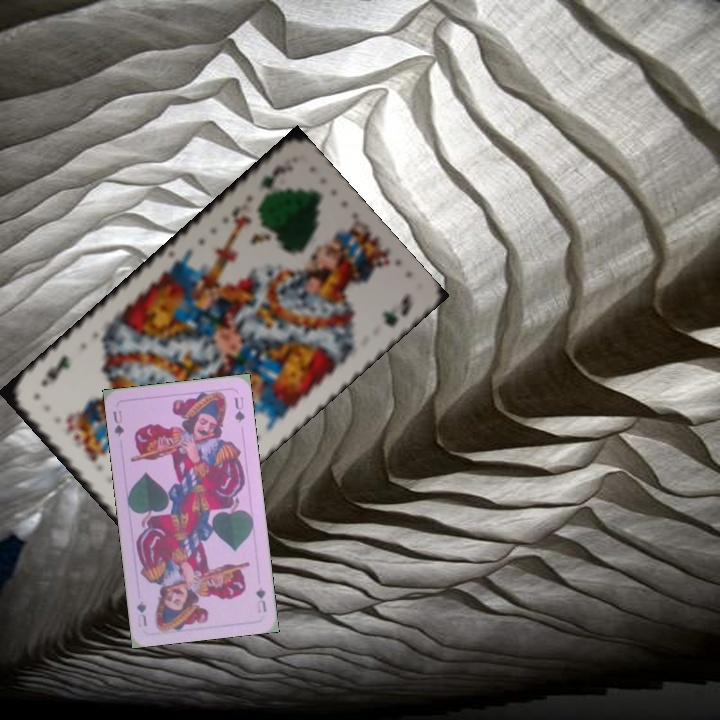GK: (254, 166, 278, 204)
GU: (109, 407, 127, 439), (252, 583, 269, 615)
